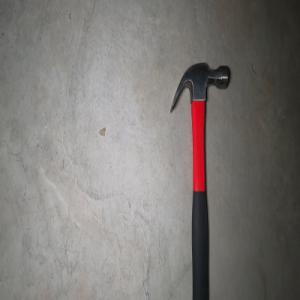Hammer: (169, 60, 230, 300)
